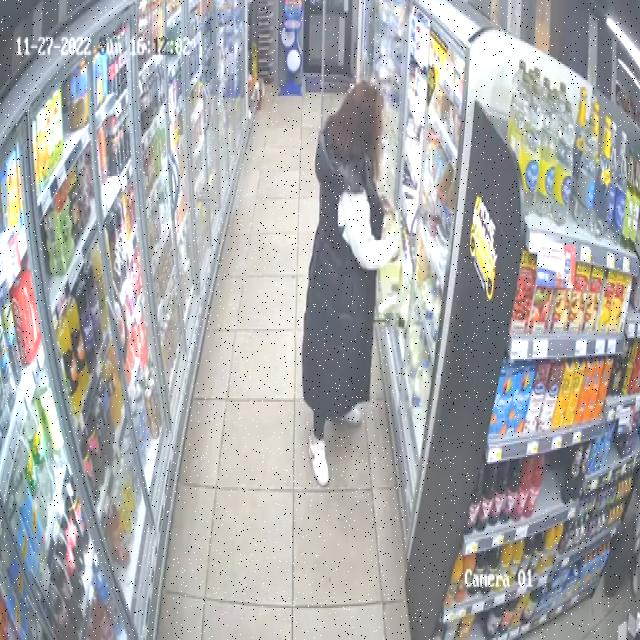bags: (376, 251, 403, 322), (383, 208, 402, 244)
person: (301, 84, 401, 485)
